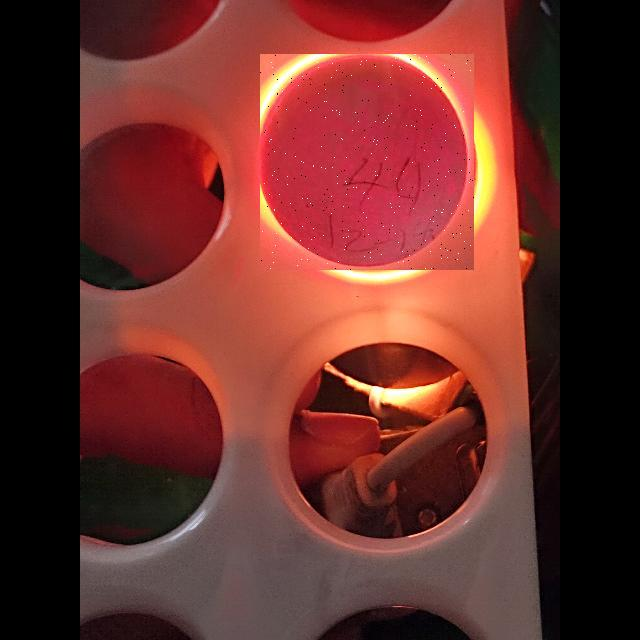Fertile: (260, 54, 474, 270)
